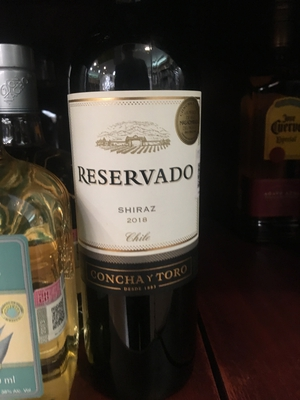reservado shiraz: (65, 36, 204, 379)
